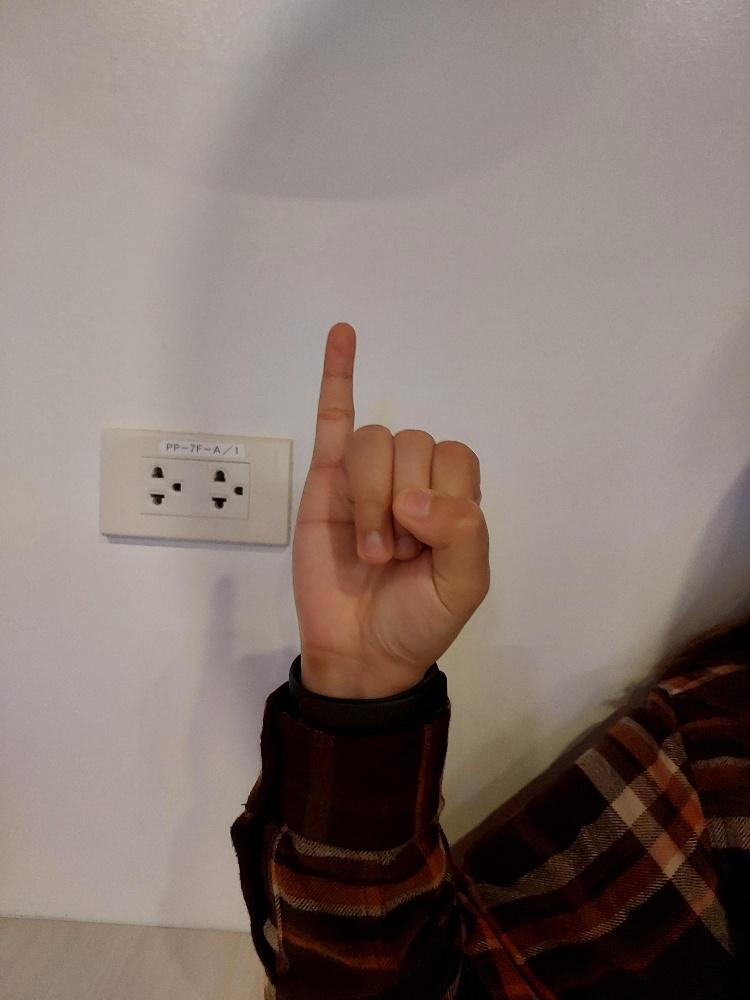i: (289, 319, 494, 689)
